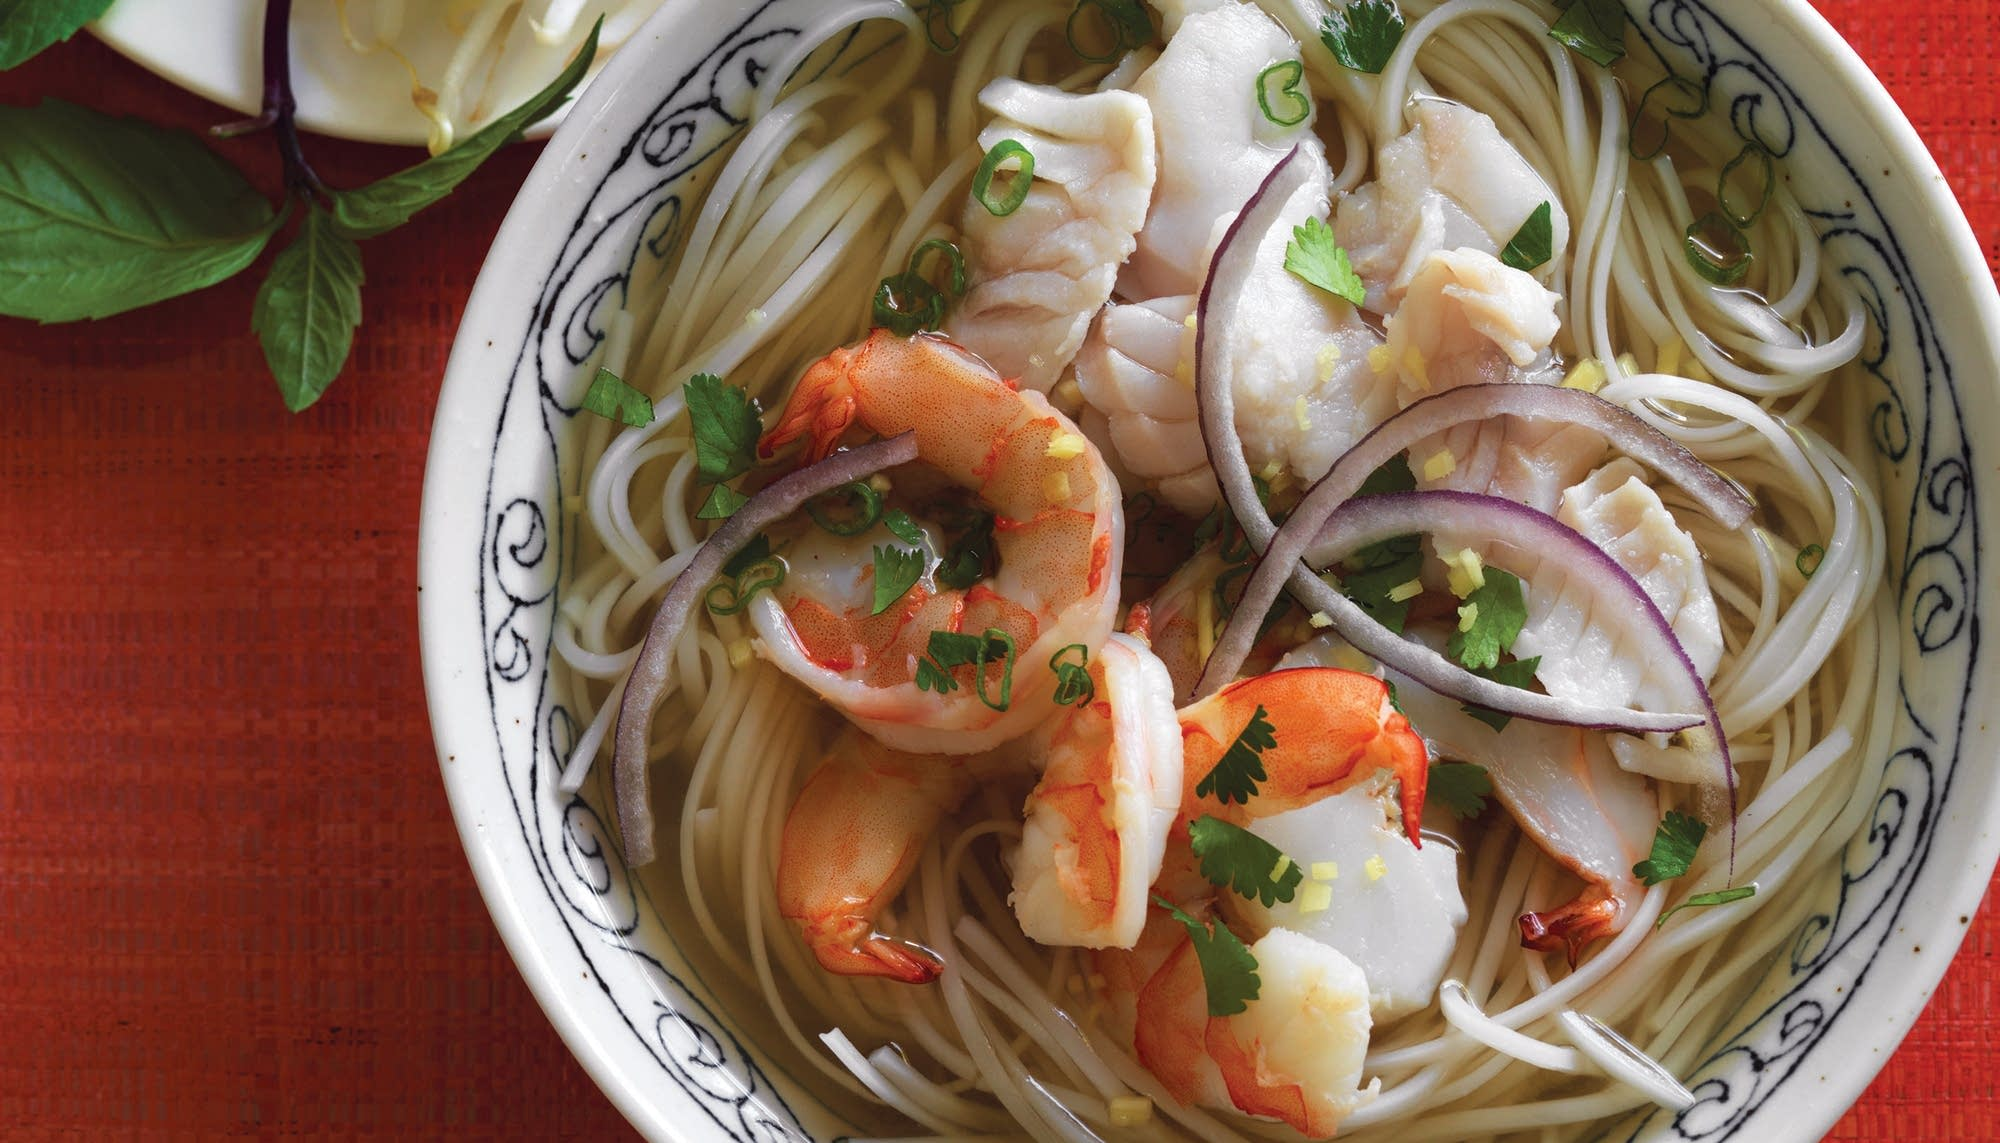pho: (418, 18, 1984, 1129)
